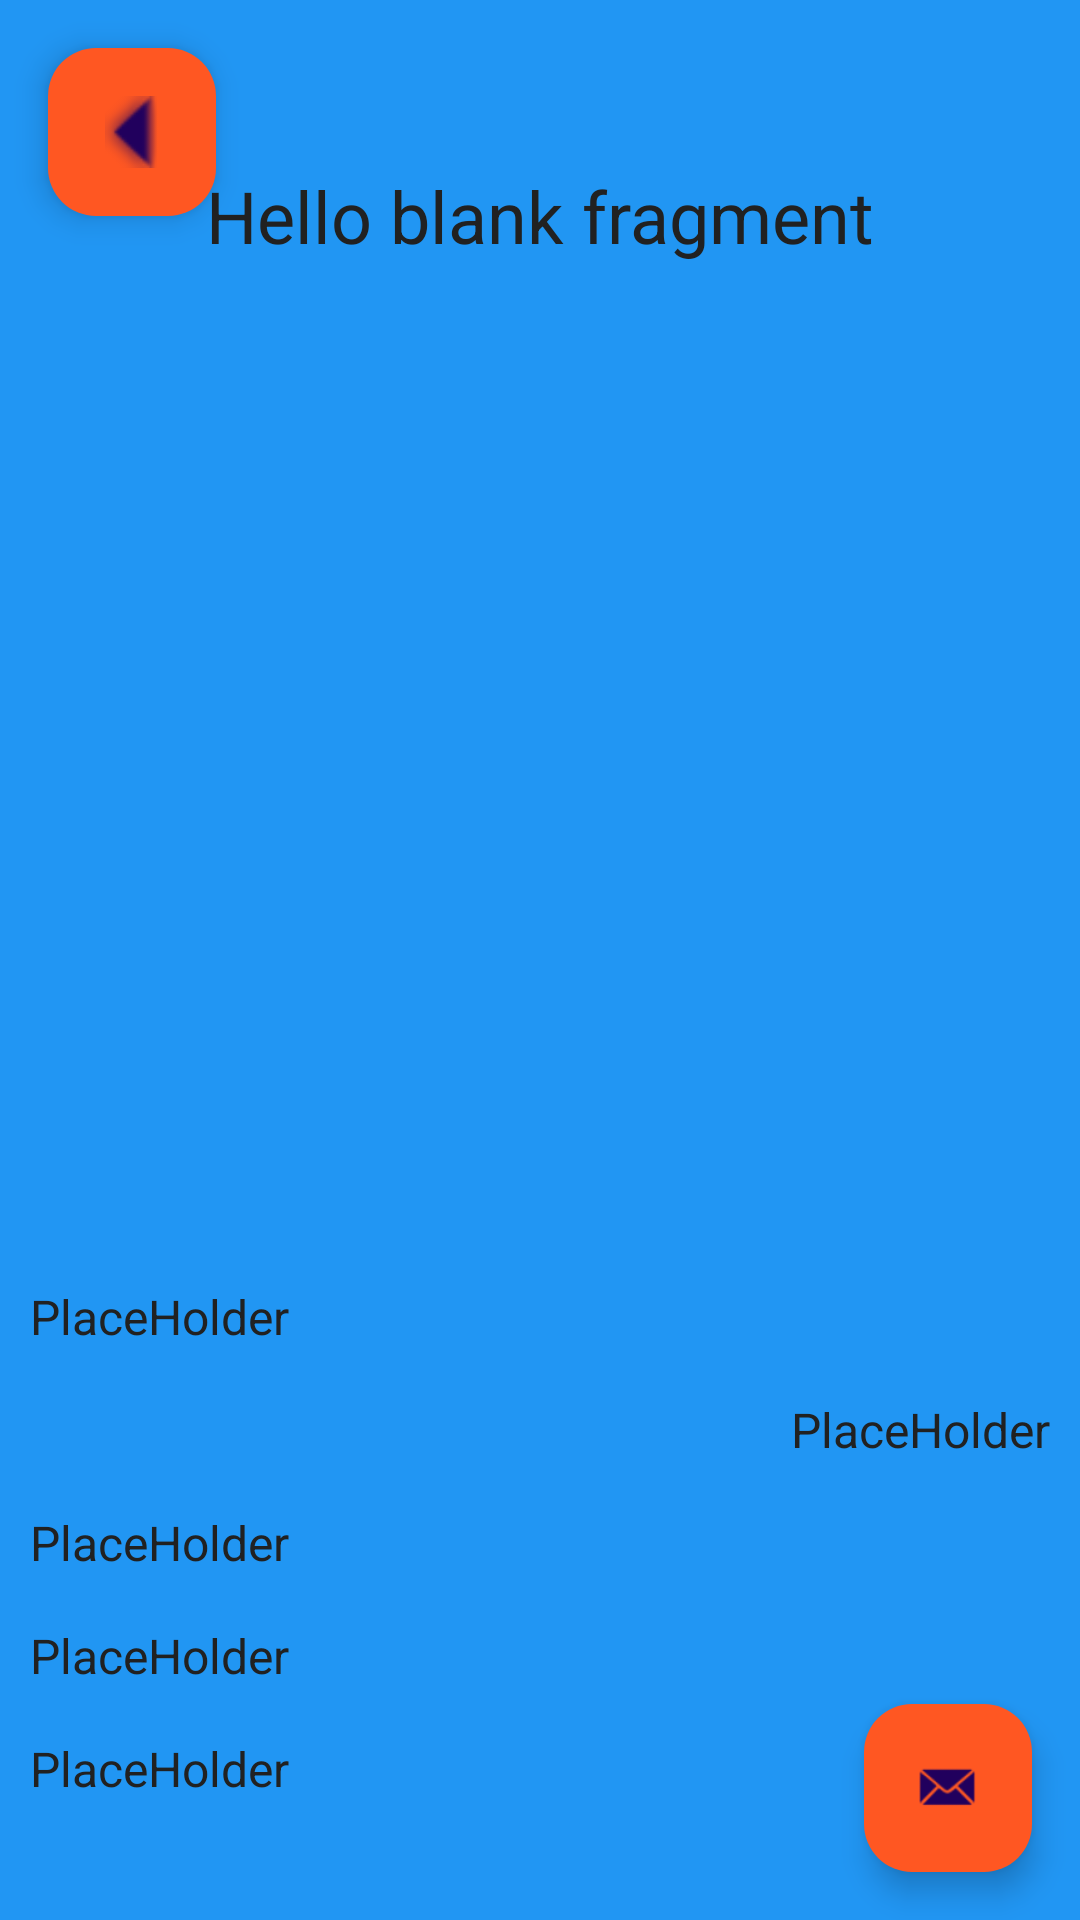

Named icons in this screenshot (1080×1920) and their centers, point (x, y):
Elegir personaje por correo: point (948, 1788)
